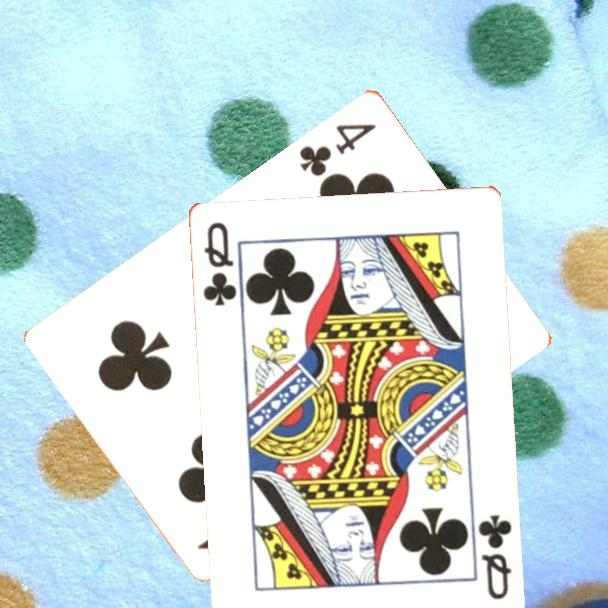c04: (295, 119, 380, 179)
c12: (474, 511, 514, 602), (199, 218, 239, 308)
